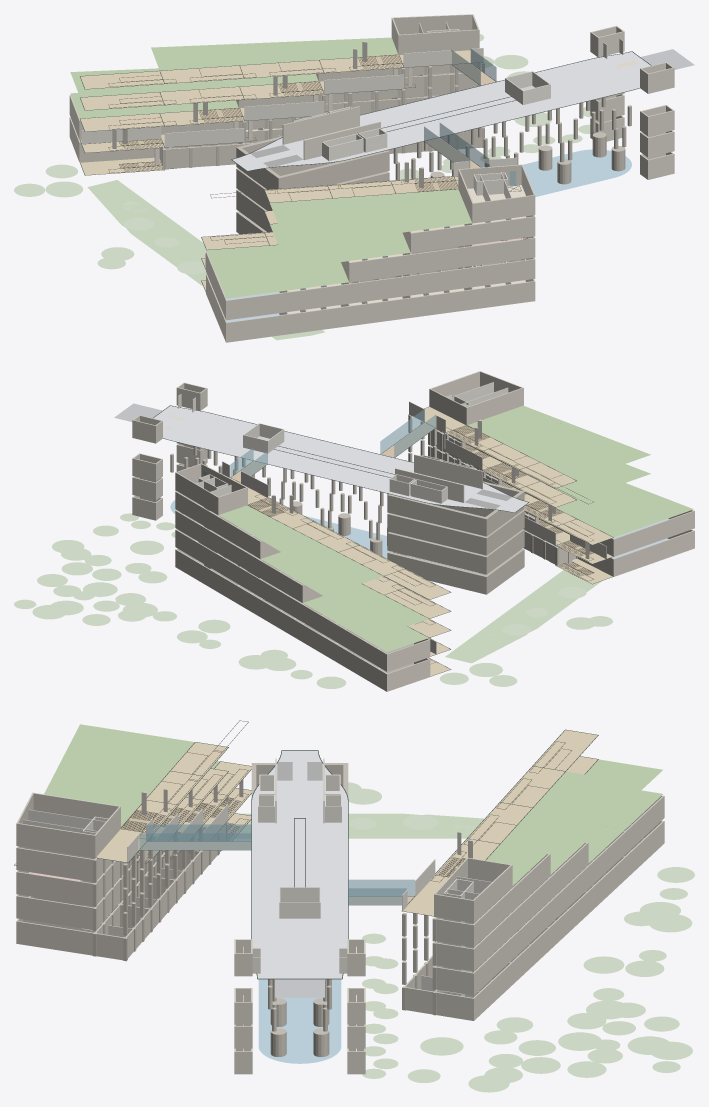
The model's file is interior.glb.
The picture shows the model from 3 angles, top to bottom: view 1: azimuth 30°, elevation 25°; view 2: azimuth 150°, elevation 25°; view 3: azimuth 270°, elevation 25°; orthographic projection. The views are drawn at different scales.
Parts seen in each view (by area): view 1: PL|floor, G|floor, G|wall, L2|wall, PL|wall, L3|floor, L4|floor, L3|wall, PL|prtn, L4|col, L4|wall, L3|col (+13 smaller); view 2: PL|floor, G|floor, G|wall, PL|wall, L2|wall, L4|floor, L3|floor, PL|prtn, L3|col, L3|wall, L4|col, L2|col (+10 smaller); view 3: PL|floor, G|floor, G|wall, L2|wall, PL|wall, L3|wall, PL|prtn, L4|wall, L4|floor, PL|glass, G|col, L3|floor (+8 smaller).
Boxes of the visible parts, x1=… form: PL|floor: x1=80, y1=37, x2=694, y2=247; G|floor: x1=14, y1=34, x2=631, y2=340; G|wall: x1=69, y1=115, x2=674, y2=342; L2|wall: x1=69, y1=94, x2=674, y2=320; PL|wall: x1=282, y1=14, x2=674, y2=223; L3|floor: x1=70, y1=93, x2=525, y2=298; L4|floor: x1=70, y1=68, x2=525, y2=269; L3|wall: x1=193, y1=72, x2=674, y2=282; PL|prtn: x1=293, y1=21, x2=623, y2=201; L4|col: x1=236, y1=62, x2=583, y2=189; L4|wall: x1=273, y1=63, x2=535, y2=252; L3|col: x1=236, y1=73, x2=631, y2=210; PL|floor: x1=114, y1=403, x2=650, y2=599; G|floor: x1=14, y1=500, x2=668, y2=688; G|wall: x1=132, y1=463, x2=694, y2=691; PL|wall: x1=132, y1=371, x2=523, y2=515; L2|wall: x1=132, y1=443, x2=694, y2=671; L4|floor: x1=252, y1=445, x2=650, y2=633; L3|floor: x1=280, y1=482, x2=693, y2=652; PL|prtn: x1=178, y1=382, x2=508, y2=503; L3|col: x1=170, y1=432, x2=524, y2=555; L3|wall: x1=132, y1=429, x2=555, y2=602; L4|col: x1=213, y1=414, x2=524, y2=536; L2|col: x1=175, y1=445, x2=540, y2=574; PL|floor: x1=44, y1=724, x2=624, y2=997; G|floor: x1=227, y1=782, x2=694, y2=1092; G|wall: x1=16, y1=820, x2=664, y2=1074; L2|wall: x1=16, y1=779, x2=664, y2=1048; PL|wall: x1=16, y1=758, x2=512, y2=976; L3|wall: x1=16, y1=785, x2=588, y2=1024; PL|prtn: x1=23, y1=774, x2=491, y2=973; L4|wall: x1=16, y1=789, x2=550, y2=947; L4|floor: x1=136, y1=756, x2=662, y2=874; PL|glass: x1=139, y1=824, x2=442, y2=904; G|col: x1=92, y1=822, x2=436, y2=1057; L3|floor: x1=29, y1=761, x2=662, y2=880.
Bounding box in the file's own units: 125 × 22.42 × 115.
